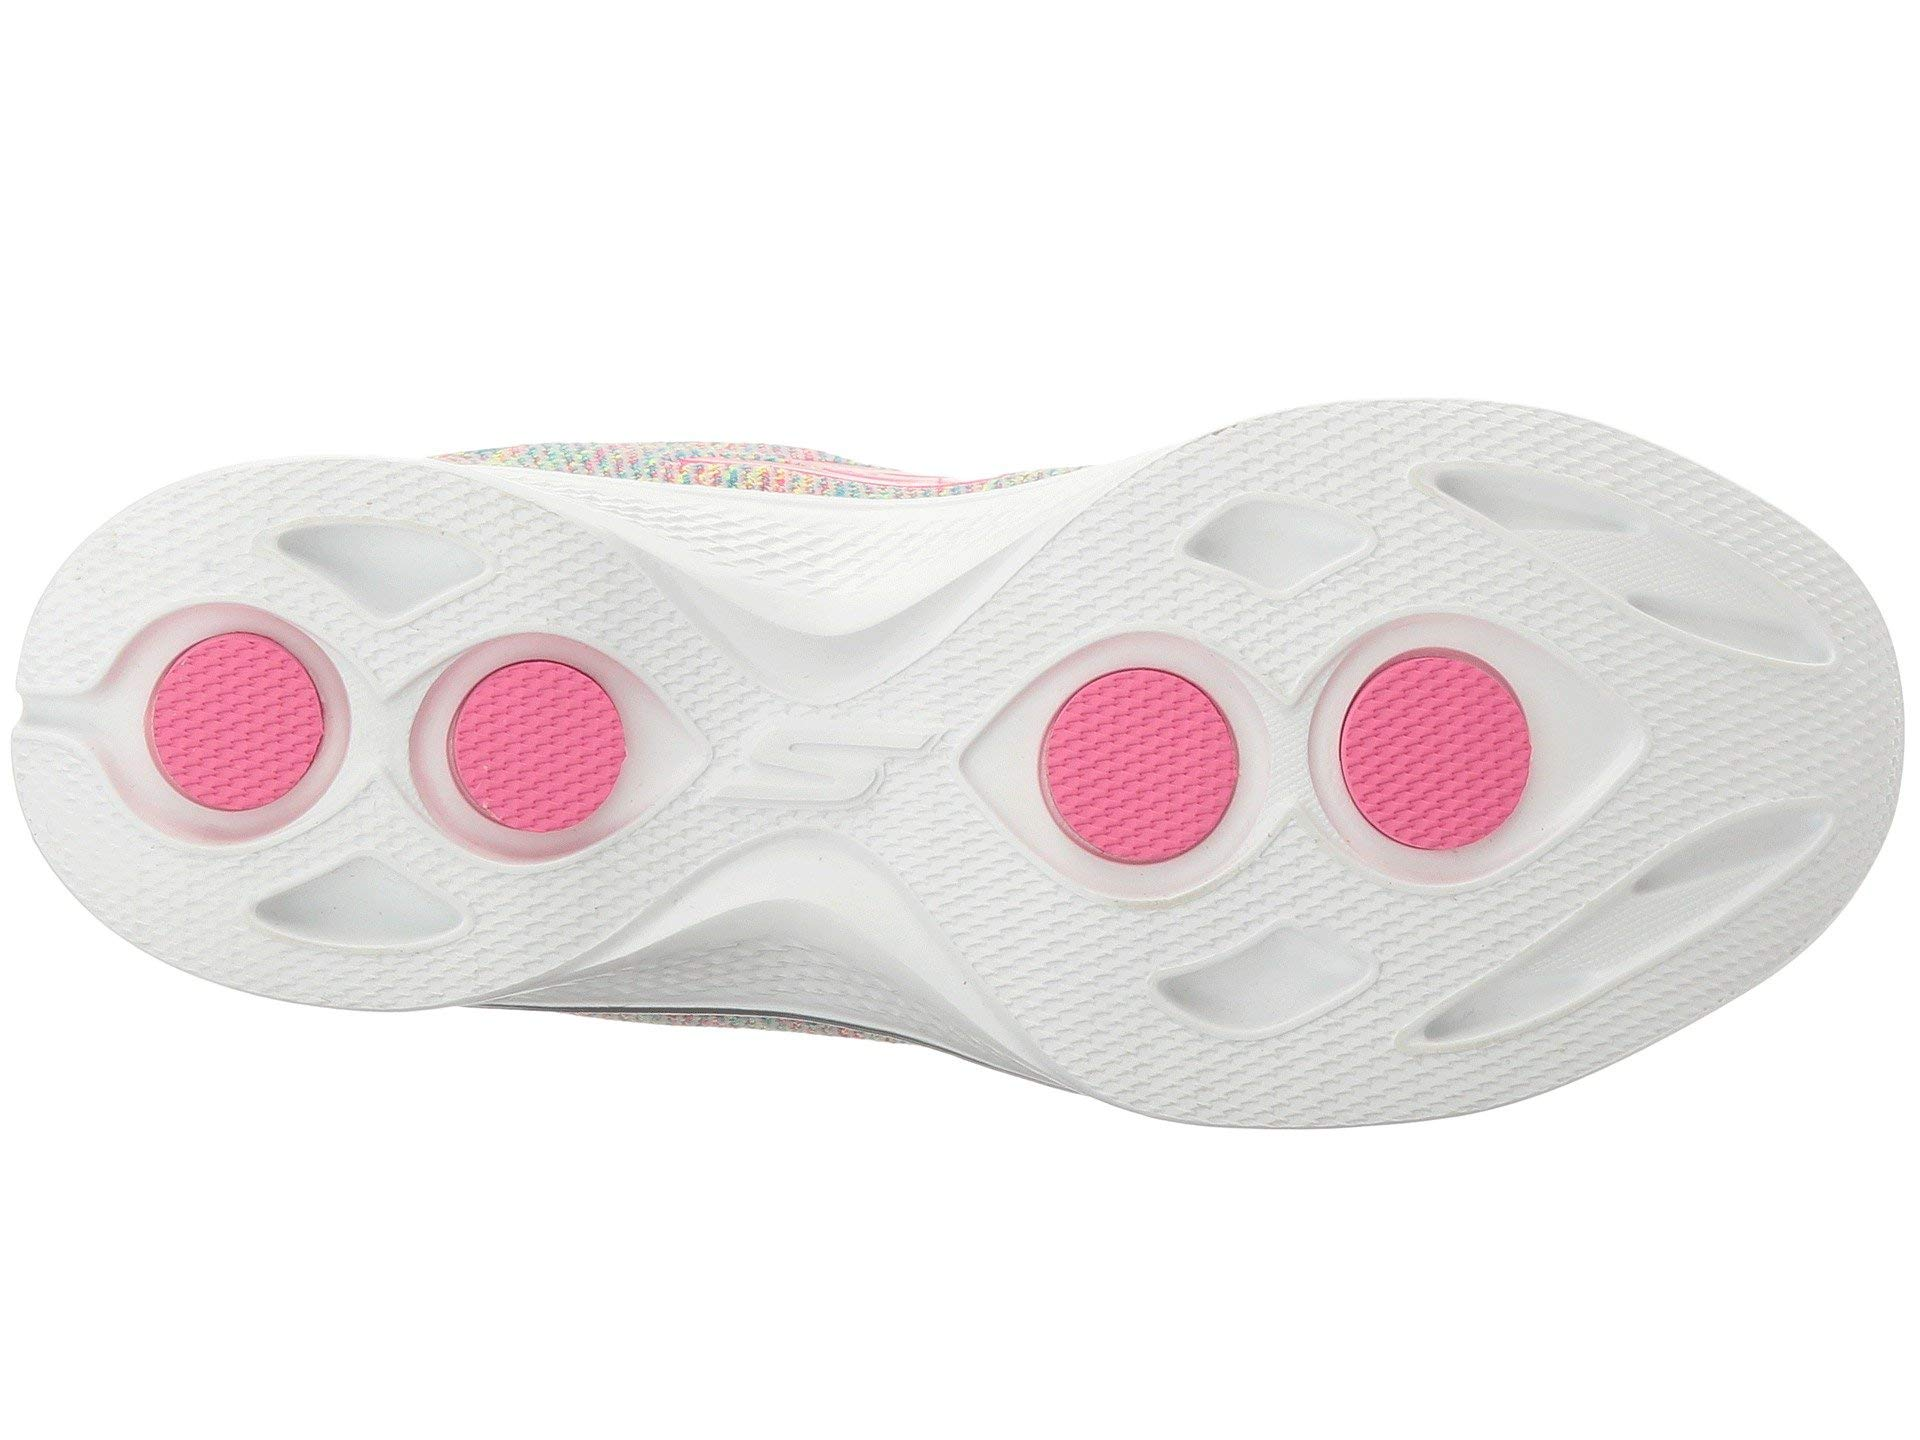circle: (168, 472, 667, 944), (1302, 551, 1637, 971), (1002, 605, 1297, 954)
triangle: (168, 472, 667, 944)
